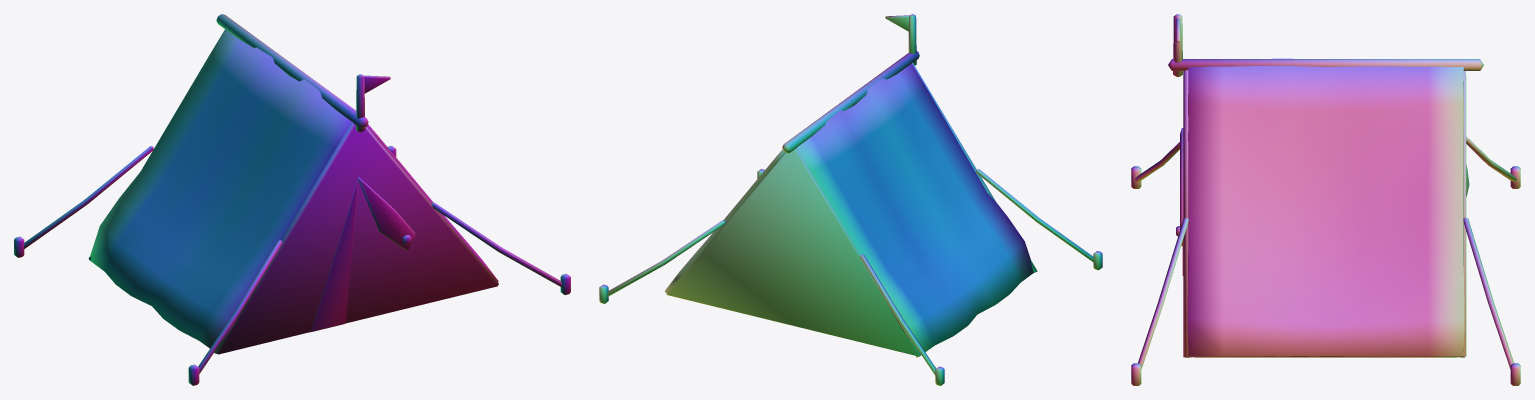
File: SM_Prop_Camp_Tent.fbx
3 renders of one model, left to right at view 1: azimuth 30°, elevation 25°; view 2: azimuth 150°, elevation 25°; view 3: azimuth 270°, elevation 25°, orthographic. The views are drawn at different scales.
Visible parts, largest first — view 1: SM_Prop_Camp_Tent; view 2: SM_Prop_Camp_Tent; view 3: SM_Prop_Camp_Tent.
Part boxes in pixels (box(x1,y1,x2,y2)): SM_Prop_Camp_Tent: box(14, 14, 570, 385); SM_Prop_Camp_Tent: box(599, 14, 1102, 385); SM_Prop_Camp_Tent: box(1131, 14, 1520, 385).
Size of the model in its own units: 3.41 by 2.16 by 2.79.
